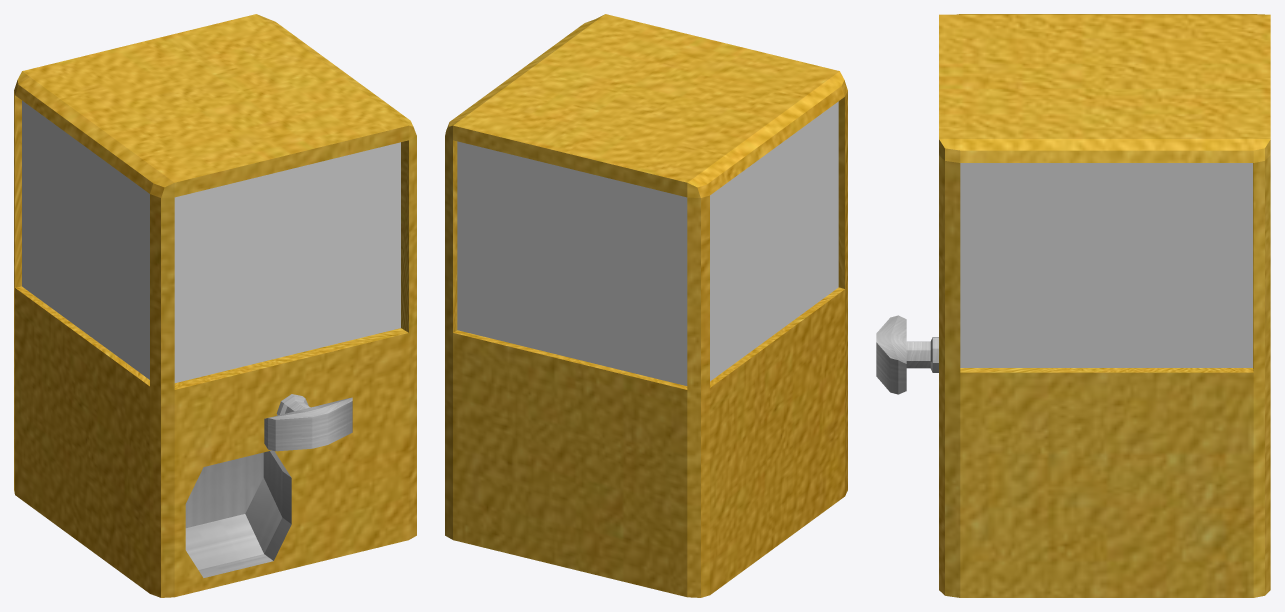
The model's file is GachaMachine1_1.fbx.
3 views of the same model, side by side, from view 1: azimuth 30°, elevation 25°; view 2: azimuth 150°, elevation 25°; view 3: azimuth 270°, elevation 25° (orthographic). The views are drawn at different scales.
Visible parts, largest first — view 1: Machine, Glass, Glass.003, Handle; view 2: Machine, Glass.002, Glass.003; view 3: Machine, Glass.001, Handle.
Boxes of the visible parts, bbox=[...] form: Machine: bbox=[14, 14, 416, 597]; Glass: bbox=[174, 142, 400, 382]; Glass.003: bbox=[22, 100, 149, 379]; Handle: bbox=[264, 394, 352, 451]; Machine: bbox=[445, 14, 847, 597]; Glass.002: bbox=[457, 141, 687, 385]; Glass.003: bbox=[710, 101, 838, 381]; Machine: bbox=[939, 14, 1270, 597]; Glass.001: bbox=[960, 163, 1252, 367]; Handle: bbox=[876, 315, 938, 394].
Bounding box in the file's own units: 400 × 600 × 476.
